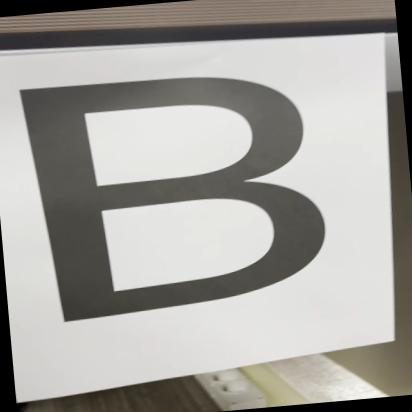seat: (15, 49, 360, 327)
